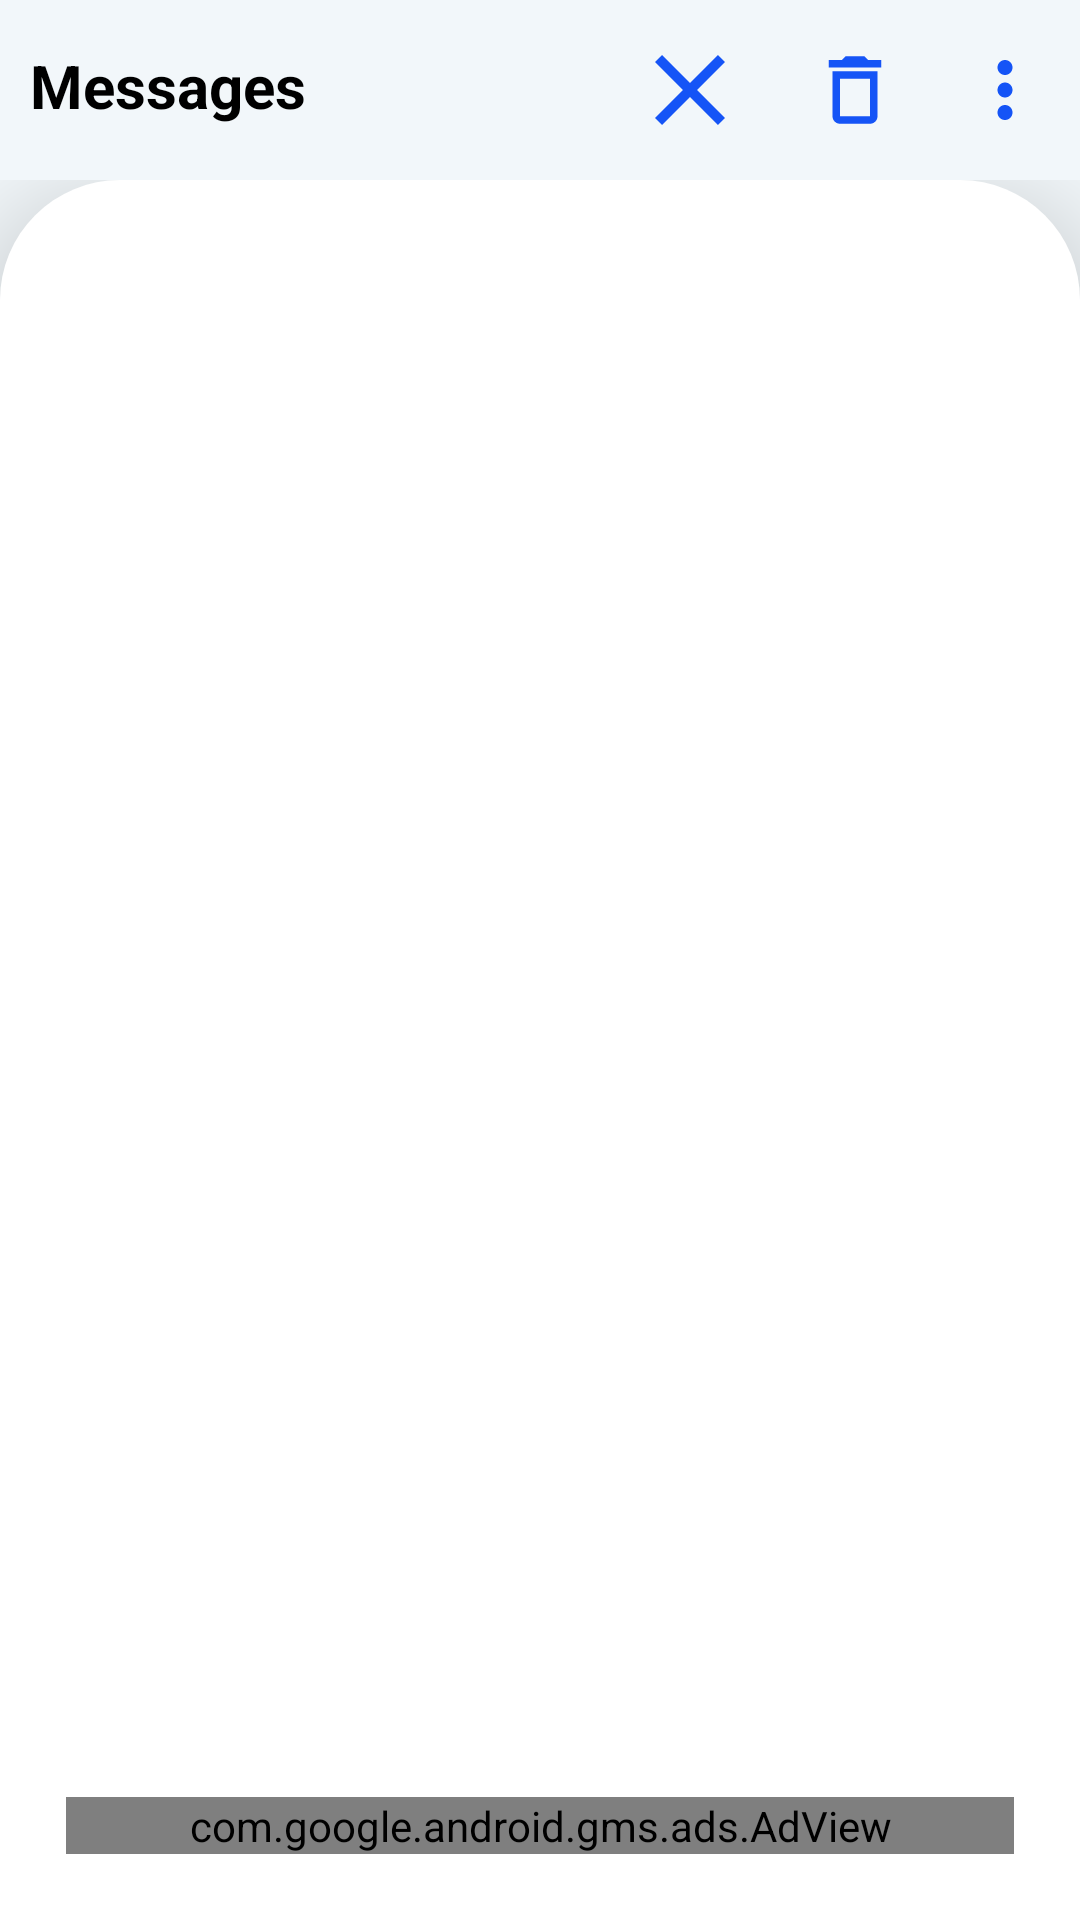

Named icons in this screenshot (1080px x 1920px) and their centers, (x,y):
close: (690,90)
delete: (855,90)
menu: (1005,90)
